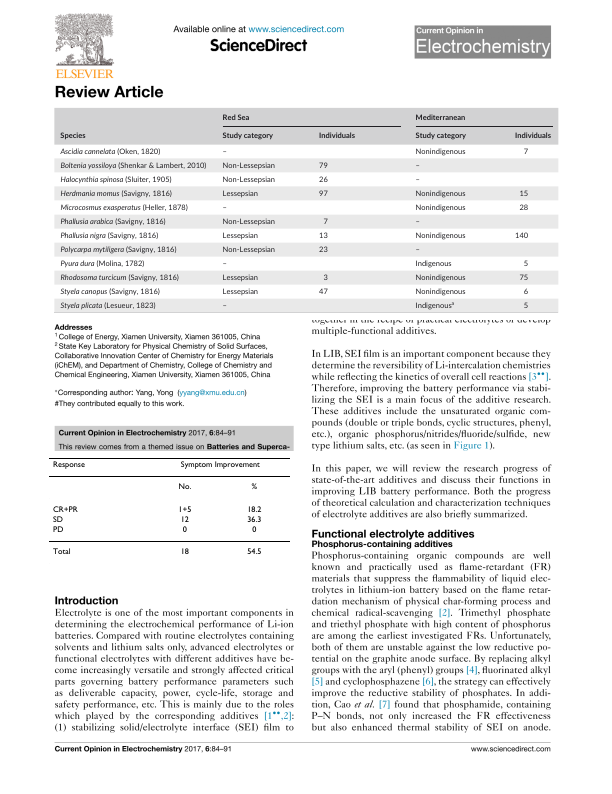borderless: (52, 107, 559, 314), (47, 456, 291, 565)
cell: (59, 160, 206, 172), (59, 202, 188, 214), (59, 272, 179, 284), (59, 244, 177, 256), (59, 174, 172, 186), (59, 188, 172, 200), (59, 216, 166, 228), (59, 146, 160, 158), (59, 286, 160, 298), (59, 230, 158, 242), (59, 300, 156, 312), (59, 258, 144, 270), (179, 461, 260, 470), (414, 111, 465, 124), (221, 160, 275, 172), (221, 174, 275, 186), (221, 216, 275, 228), (221, 244, 275, 256), (221, 130, 273, 142), (414, 130, 466, 142), (414, 146, 466, 158), (414, 188, 466, 200), (414, 202, 466, 214), (414, 230, 466, 242), (414, 272, 466, 284), (414, 286, 466, 298), (414, 299, 454, 312), (414, 258, 452, 270), (221, 188, 258, 200), (221, 230, 258, 242), (221, 272, 258, 284), (221, 286, 258, 298), (221, 111, 250, 124), (59, 130, 86, 142), (51, 461, 85, 470), (317, 132, 355, 140), (513, 132, 551, 140), (51, 505, 78, 515), (51, 548, 71, 557), (246, 505, 262, 515), (246, 515, 262, 525), (177, 505, 192, 515), (246, 548, 262, 557), (177, 483, 192, 492), (317, 160, 328, 172), (317, 174, 328, 186), (317, 188, 328, 200), (51, 515, 63, 525), (51, 526, 64, 535), (513, 233, 528, 240), (179, 515, 189, 525), (179, 548, 189, 557), (317, 233, 328, 240), (317, 247, 328, 254), (317, 289, 328, 296), (522, 286, 528, 298), (250, 483, 258, 492), (518, 191, 528, 198), (518, 205, 528, 212), (518, 275, 528, 282), (181, 526, 187, 535), (251, 526, 257, 535), (221, 149, 227, 156), (522, 149, 528, 156), (414, 163, 420, 170), (414, 177, 420, 184), (221, 205, 227, 212), (322, 219, 328, 226), (414, 219, 420, 226), (414, 247, 420, 254), (221, 261, 227, 268), (522, 261, 528, 268), (322, 275, 328, 282), (221, 303, 227, 310), (522, 303, 528, 310)
